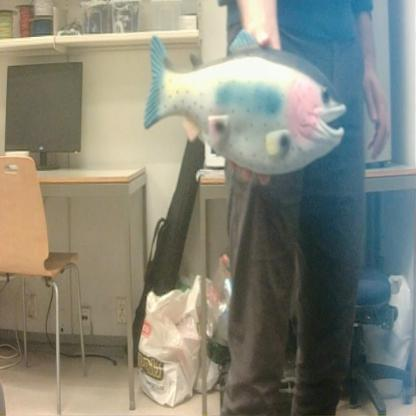rubberfish: (138, 27, 349, 179)
